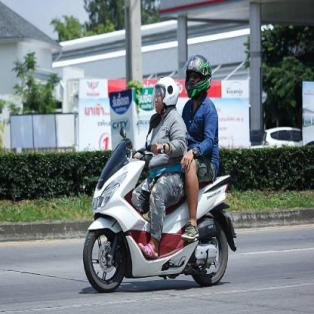Motocicleta: (80, 134, 234, 297)
